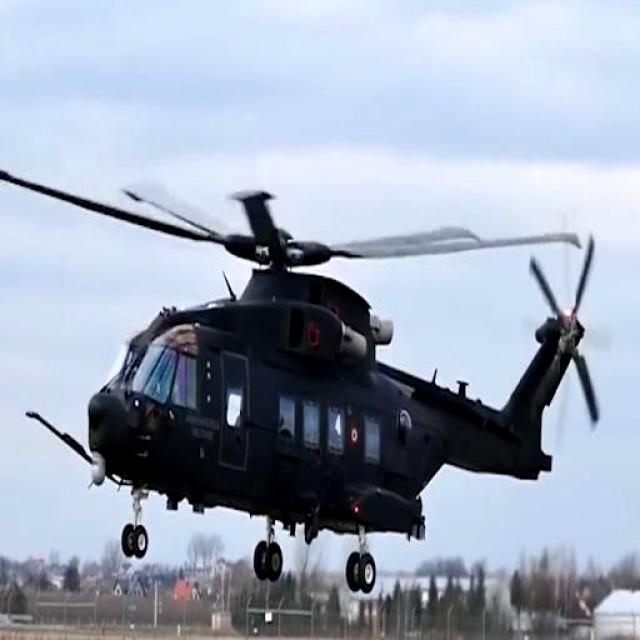drone: (62, 138, 620, 590)
